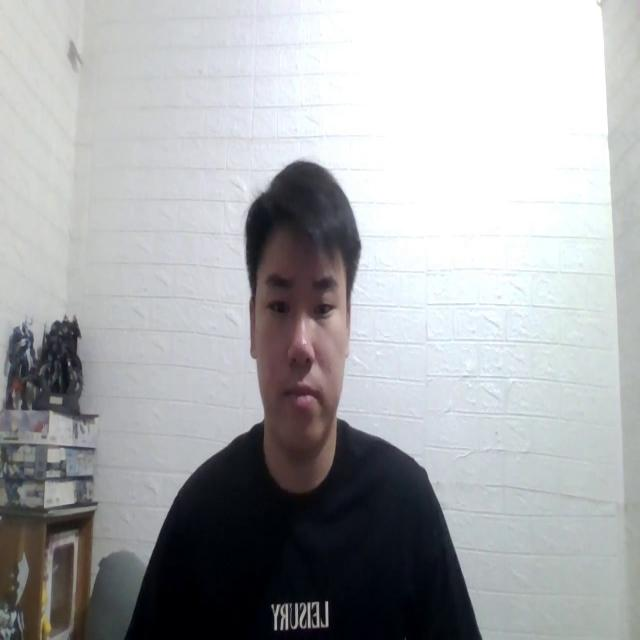student: (135, 155, 480, 640)
